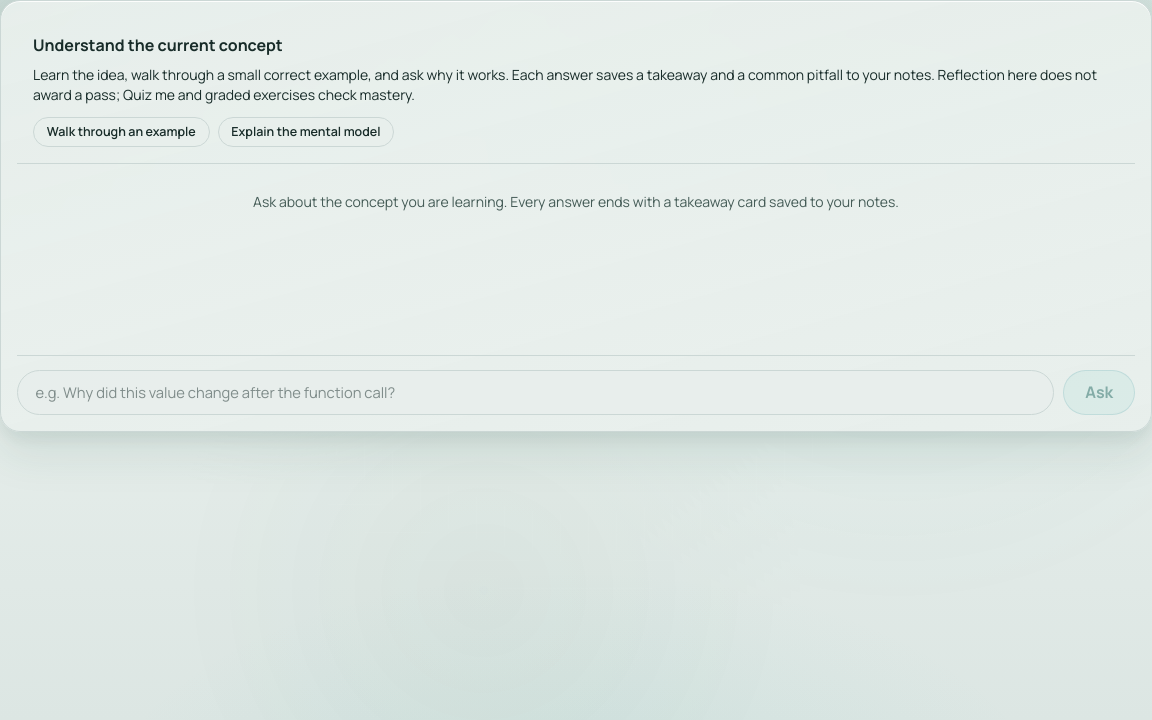
it: Explain mode › asks, shows the takeaway card and keeps the allowance in sync
Expected: the text "takeaway card saved to your notes" is shown, x1=253 y1=192 x2=899 y2=211
In the field named "Your question": point(535, 392) x1=17 y1=370 x2=1054 y2=415, type "Why KeyError?"
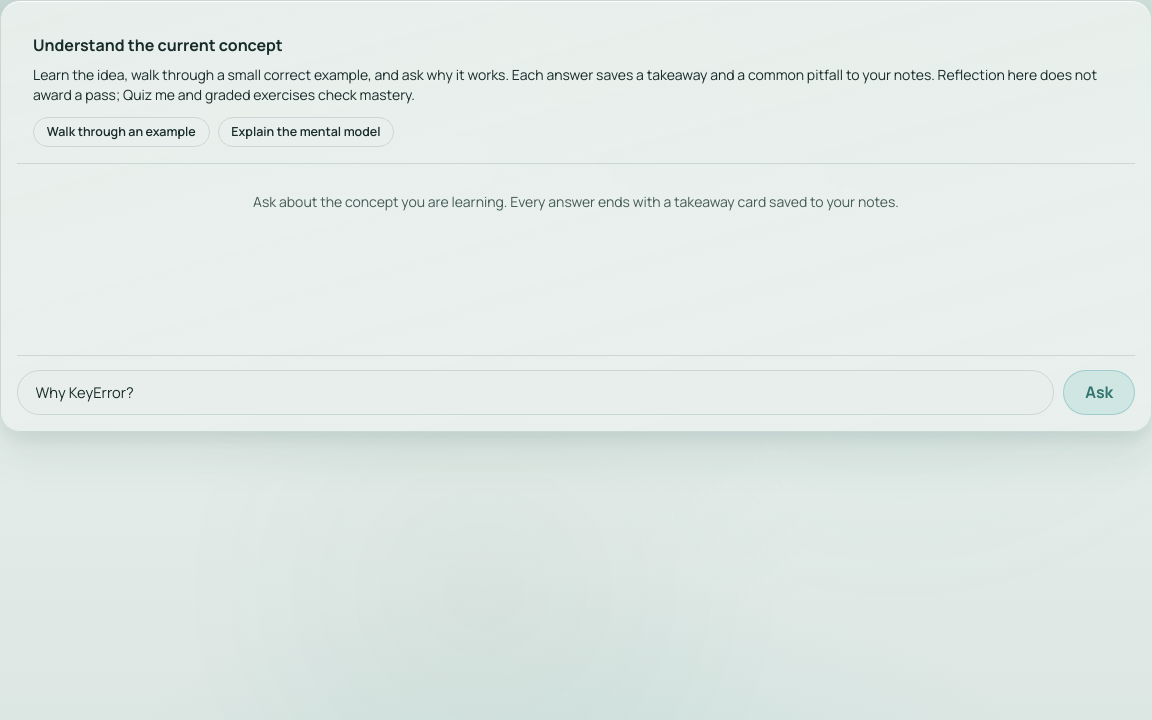
Press Enter in the field named "Your question", box x1=17 y1=370 x2=1054 y2=415
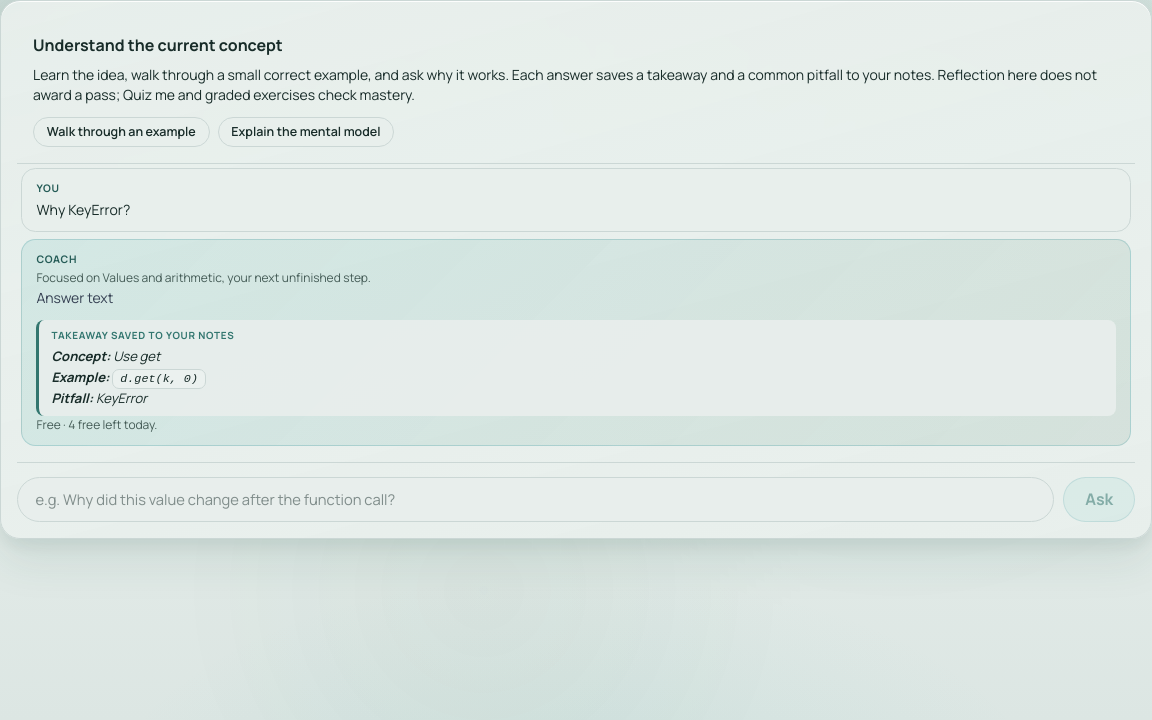
Expected: the text "Takeaway saved to your notes" is shown, x1=51 y1=328 x2=234 y2=342
Expected: the text "d.get(k, 0)" is shown, x1=112 y1=369 x2=206 y2=389
Expected: the text "Focused on Values and arithmetic, your next unfinished step." is shown, x1=36 y1=269 x2=371 y2=286
In the field named "Your question": point(535, 499) x1=17 y1=477 x2=1054 y2=522, type "More?"
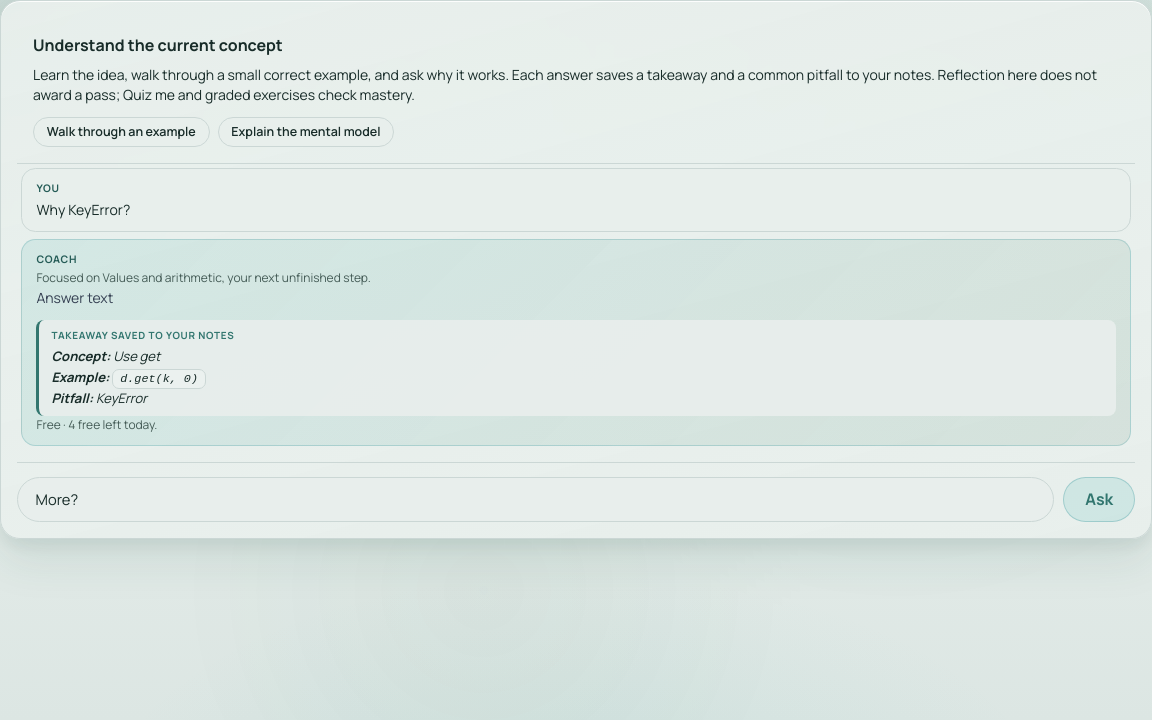
Click the button "Ask": point(1099, 499) x1=1063 y1=477 x2=1135 y2=522
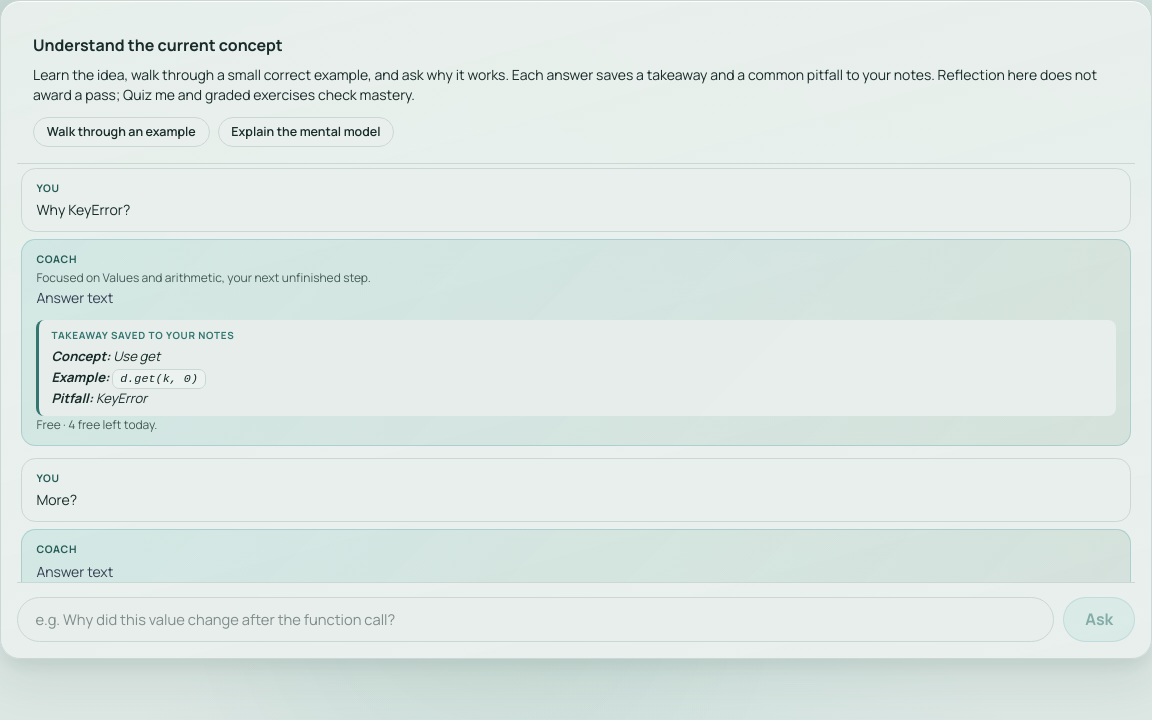
In the field named "Your question": point(535, 619) x1=17 y1=596 x2=1054 y2=642, type "Again"
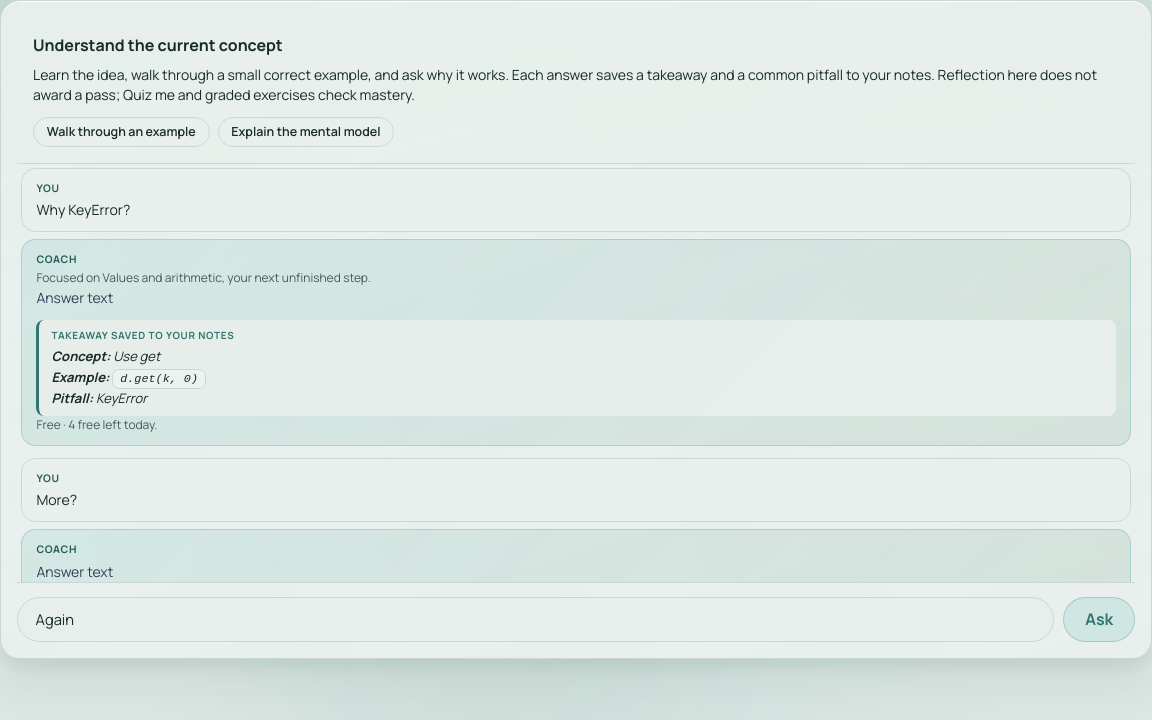
Press a in the field named "Your question", box x1=17 y1=596 x2=1054 y2=642
Click the button "Ask": point(1099, 619) x1=1063 y1=596 x2=1135 y2=642
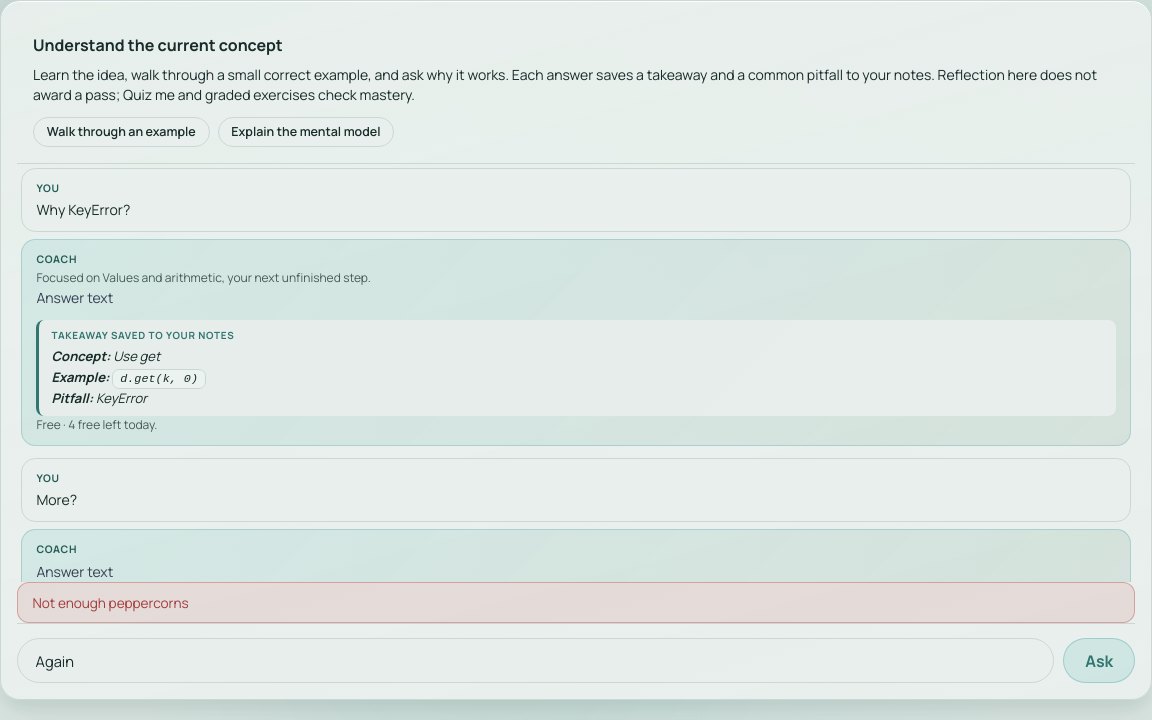
Expected: the message "Not enough peppercorns" is shown, x1=17 y1=582 x2=1135 y2=624
